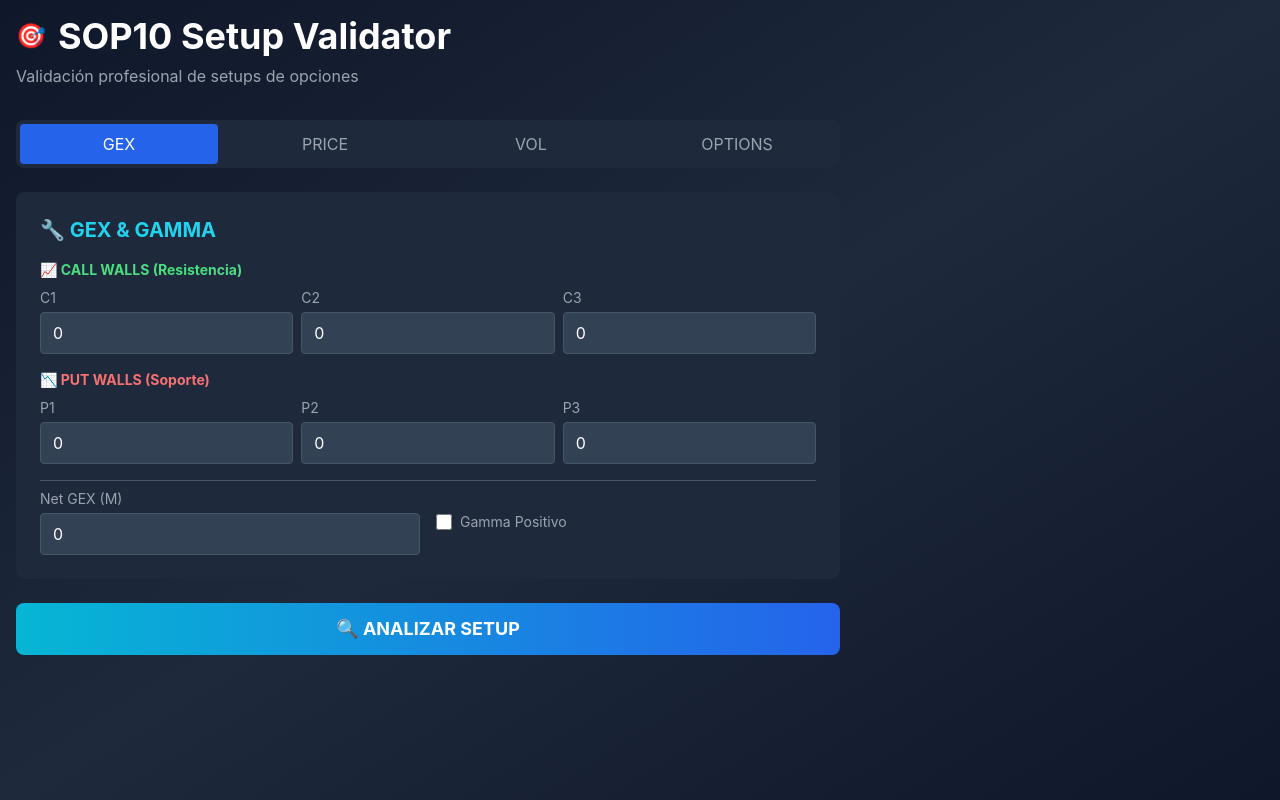
SetupValidator Component › Tab Navigation › should switch to Price Action tab when clicked
Click the button "PRICE" at {"x": 325, "y": 144}, box top-left (226, 124), bottom-right (424, 164)
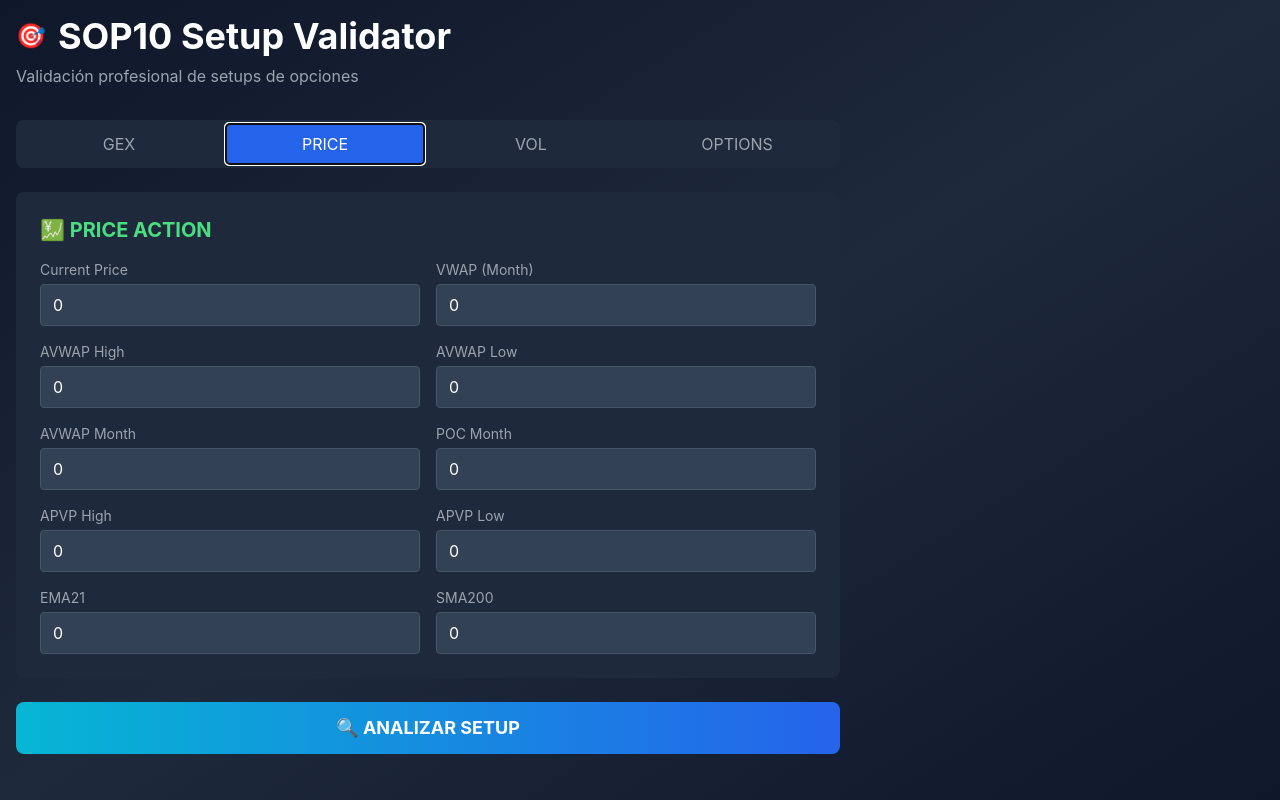
Check: the heading "💹 PRICE ACTION" is shown, box top-left (40, 218), bottom-right (212, 242)
Check: the heading "🔧 GEX & GAMMA" is gone
